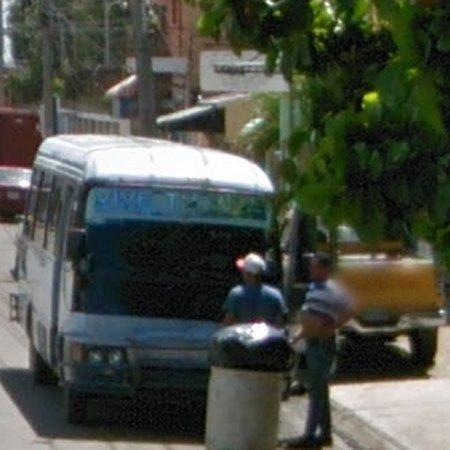buses: (14, 135, 274, 436)
